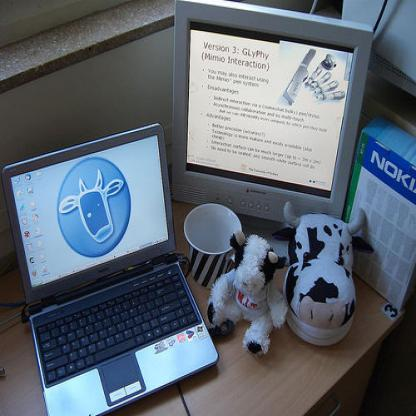tvmonitor: (171, 0, 373, 230)
